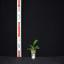leaf: (33, 40, 38, 49), (27, 45, 33, 49), (34, 47, 40, 50), (33, 46, 38, 49), (27, 48, 33, 50), (27, 49, 33, 50)
